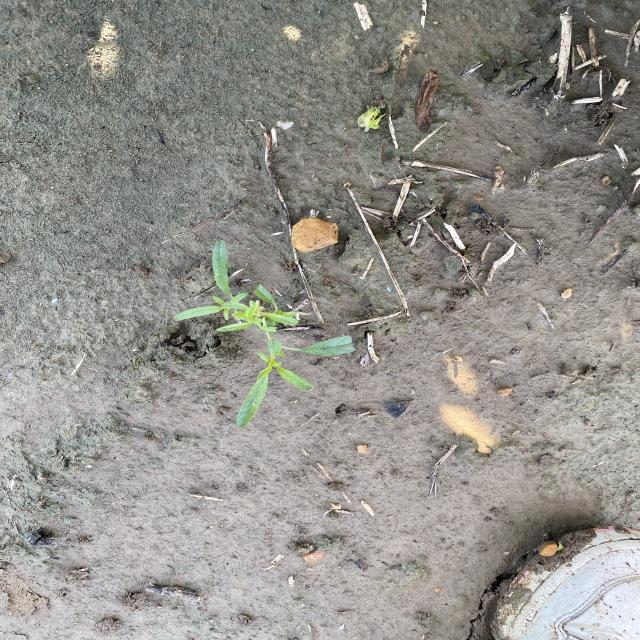Waterhemp: (171, 237, 360, 431)
